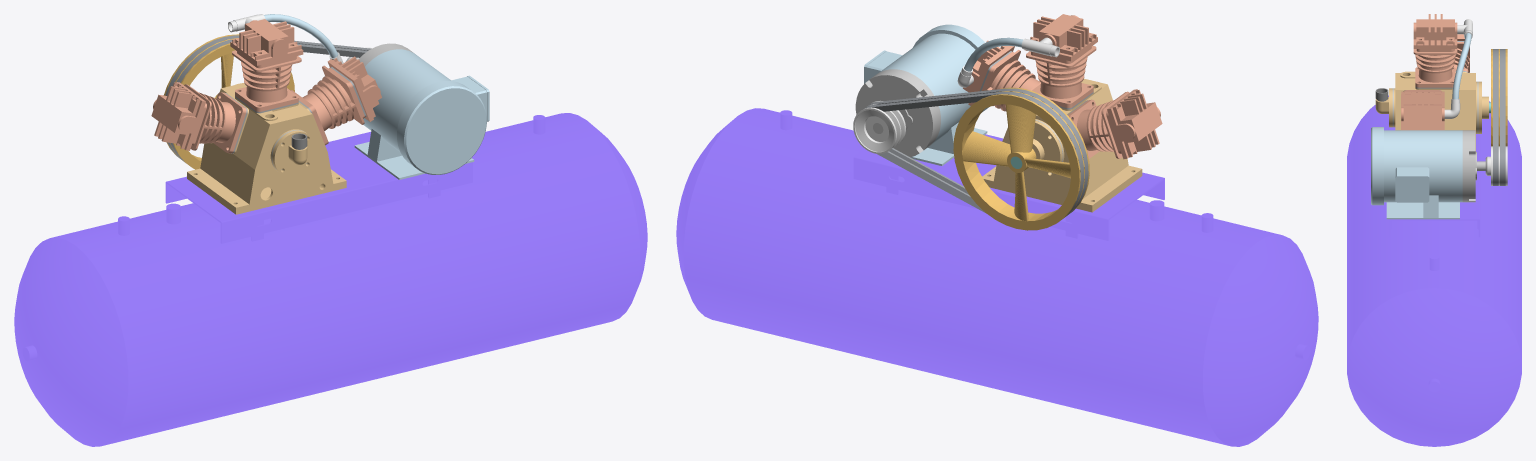
File: cabeza.glb
The picture shows the model from 3 angles, left to right: view 1: azimuth 30°, elevation 25°; view 2: azimuth 150°, elevation 25°; view 3: azimuth 270°, elevation 25°; orthographic projection. The views are drawn at different scales.
Parts seen in each view (by area): view 1: 67661548b9842846aa26b056, 67661548b9842846aa26b056.004, 67661548b9842846aa26b056.016, 67661548b9842846aa26b056.032, 67661548b9842846aa26b056.025, 67661548b9842846aa26b056.014, 67661548b9842846aa26b056.020, 67661548b9842846aa26b056.019, 67661548b9842846aa26b056.009, 67661548b9842846aa26b056.012, 67661548b9842846aa26b056.026, 67661548b9842846aa26b056.031 (+3 smaller); view 2: 67661548b9842846aa26b056, 67661548b9842846aa26b056.012, 67661548b9842846aa26b056.016, 67661548b9842846aa26b056.004, 67661548b9842846aa26b056.032, 67661548b9842846aa26b056.006, 67661548b9842846aa26b056.023, 67661548b9842846aa26b056.020, 67661548b9842846aa26b056.014, 67661548b9842846aa26b056.009, 67661548b9842846aa26b056.019, 67661548b9842846aa26b056.002 (+4 smaller); view 3: 67661548b9842846aa26b056, 67661548b9842846aa26b056.004, 67661548b9842846aa26b056.032, 67661548b9842846aa26b056.031, 67661548b9842846aa26b056.014, 67661548b9842846aa26b056.019, 67661548b9842846aa26b056.006, 67661548b9842846aa26b056.016, 67661548b9842846aa26b056.013, 67661548b9842846aa26b056.023, 67661548b9842846aa26b056.012, 67661548b9842846aa26b056.008 (+6 smaller).
Part boxes in pixels (bbox=[...]): 67661548b9842846aa26b056: bbox=[14, 113, 647, 446]; 67661548b9842846aa26b056.004: bbox=[354, 49, 489, 179]; 67661548b9842846aa26b056.016: bbox=[165, 131, 472, 243]; 67661548b9842846aa26b056.032: bbox=[187, 83, 346, 214]; 67661548b9842846aa26b056.025: bbox=[290, 65, 364, 145]; 67661548b9842846aa26b056.014: bbox=[232, 50, 301, 111]; 67661548b9842846aa26b056.020: bbox=[151, 82, 205, 150]; 67661548b9842846aa26b056.019: bbox=[230, 19, 303, 65]; 67661548b9842846aa26b056.009: bbox=[184, 84, 246, 153]; 67661548b9842846aa26b056.012: bbox=[163, 34, 294, 169]; 67661548b9842846aa26b056.026: bbox=[272, 130, 315, 176]; 67661548b9842846aa26b056.031: bbox=[327, 56, 381, 121]; 67661548b9842846aa26b056: bbox=[676, 108, 1318, 446]; 67661548b9842846aa26b056.012: bbox=[953, 87, 1089, 230]; 67661548b9842846aa26b056.016: bbox=[853, 134, 1164, 240]; 67661548b9842846aa26b056.004: bbox=[864, 24, 988, 165]; 67661548b9842846aa26b056.032: bbox=[982, 78, 1142, 212]; 67661548b9842846aa26b056.006: bbox=[855, 69, 940, 157]; 67661548b9842846aa26b056.023: bbox=[863, 91, 1084, 222]; 67661548b9842846aa26b056.020: bbox=[1107, 89, 1162, 159]; 67661548b9842846aa26b056.014: bbox=[1026, 45, 1096, 107]; 67661548b9842846aa26b056.009: bbox=[1068, 91, 1129, 158]; 67661548b9842846aa26b056.019: bbox=[1024, 14, 1097, 61]; 67661548b9842846aa26b056.002: bbox=[853, 100, 905, 153]; 67661548b9842846aa26b056: bbox=[1347, 95, 1521, 446]; 67661548b9842846aa26b056.004: bbox=[1371, 127, 1462, 219]; 67661548b9842846aa26b056.032: bbox=[1394, 71, 1477, 151]; 67661548b9842846aa26b056.031: bbox=[1401, 91, 1444, 130]; 67661548b9842846aa26b056.014: bbox=[1413, 49, 1457, 87]; 67661548b9842846aa26b056.019: bbox=[1413, 14, 1457, 48]; 67661548b9842846aa26b056.006: bbox=[1462, 130, 1485, 202]; 67661548b9842846aa26b056.016: bbox=[1388, 120, 1480, 237]; 67661548b9842846aa26b056.013: bbox=[1493, 49, 1498, 185]; 67661548b9842846aa26b056.023: bbox=[1500, 49, 1505, 185]; 67661548b9842846aa26b056.012: bbox=[1491, 49, 1507, 146]; 67661548b9842846aa26b056.008: bbox=[1452, 33, 1471, 99].
Size of the model in its own units: 1.32 by 0.75 by 0.4013.
